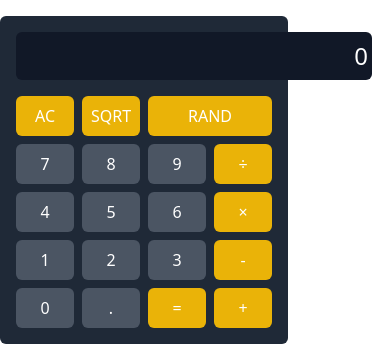
Test: Calculator › should calculate the correct result when "=" button is clicked
Click the button "7". click: (45,164)
box: [16, 144, 74, 184]
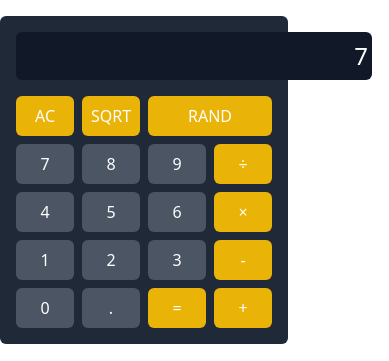
Click the button "+". click: (243,308)
box: [214, 288, 272, 328]
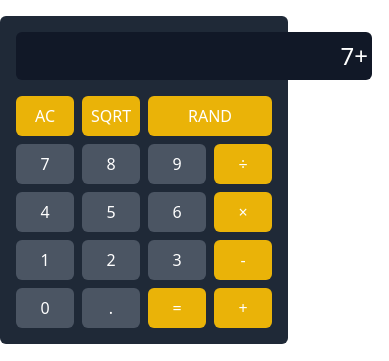
Click the button "3". click: (177,260)
box: [148, 240, 206, 280]
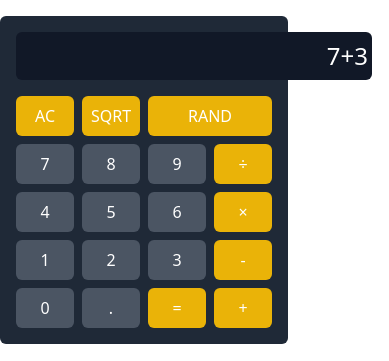
Click the button "=". click: (177,308)
box: [148, 288, 206, 328]
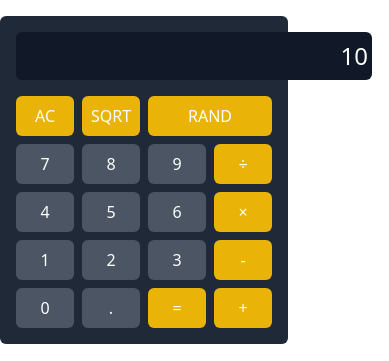
Result: the field showing "10" is shown at [16, 32, 372, 80]
